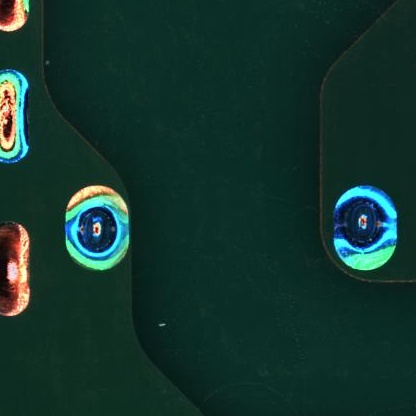spot: (333, 182, 398, 273), (64, 184, 129, 271)
